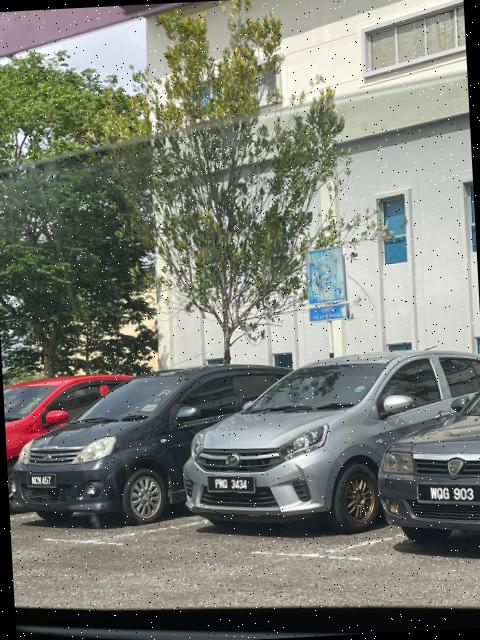License_Plate: (418, 477, 480, 510), (203, 469, 260, 500), (27, 470, 60, 492)
car: (175, 348, 480, 534), (12, 346, 307, 532), (375, 377, 480, 536)
